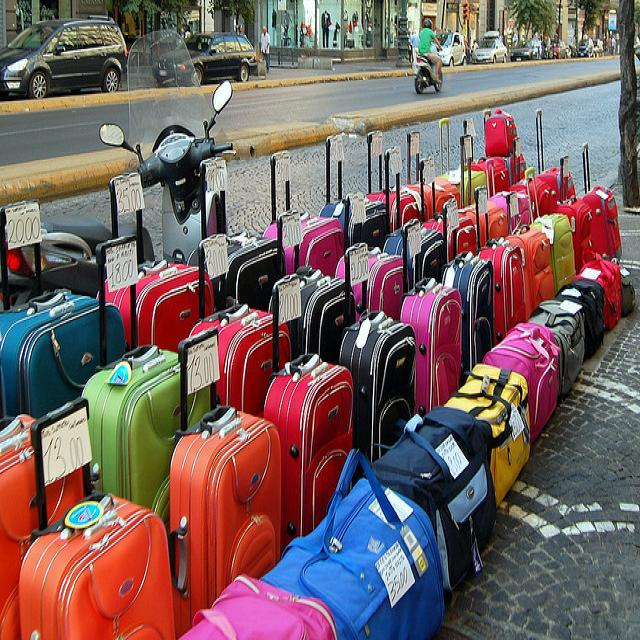motor: (98, 81, 235, 273), (415, 54, 443, 93)
